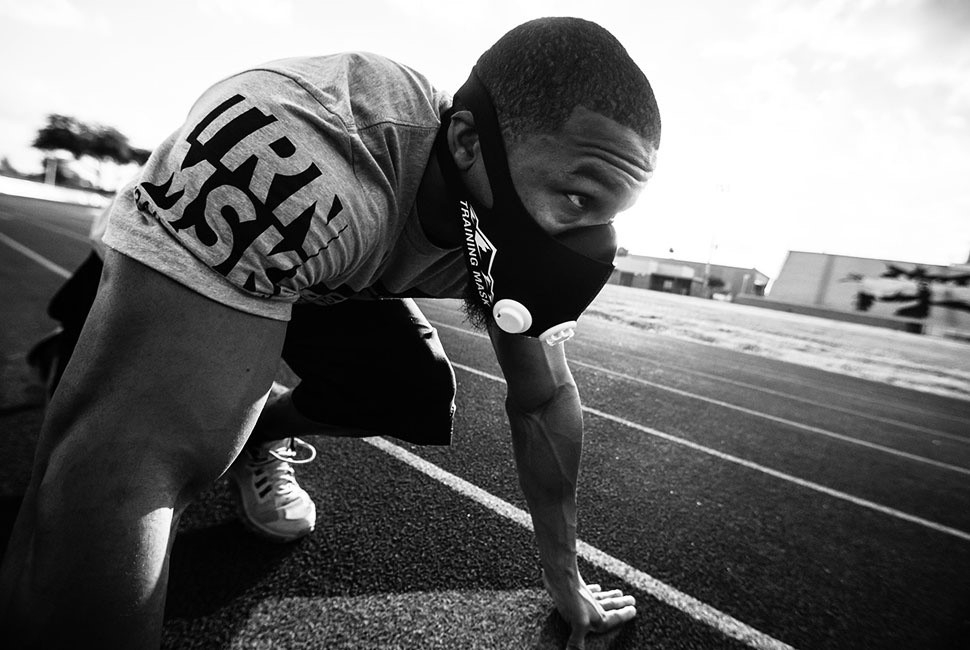face_with_mask: (442, 16, 664, 345), (432, 99, 652, 357)
